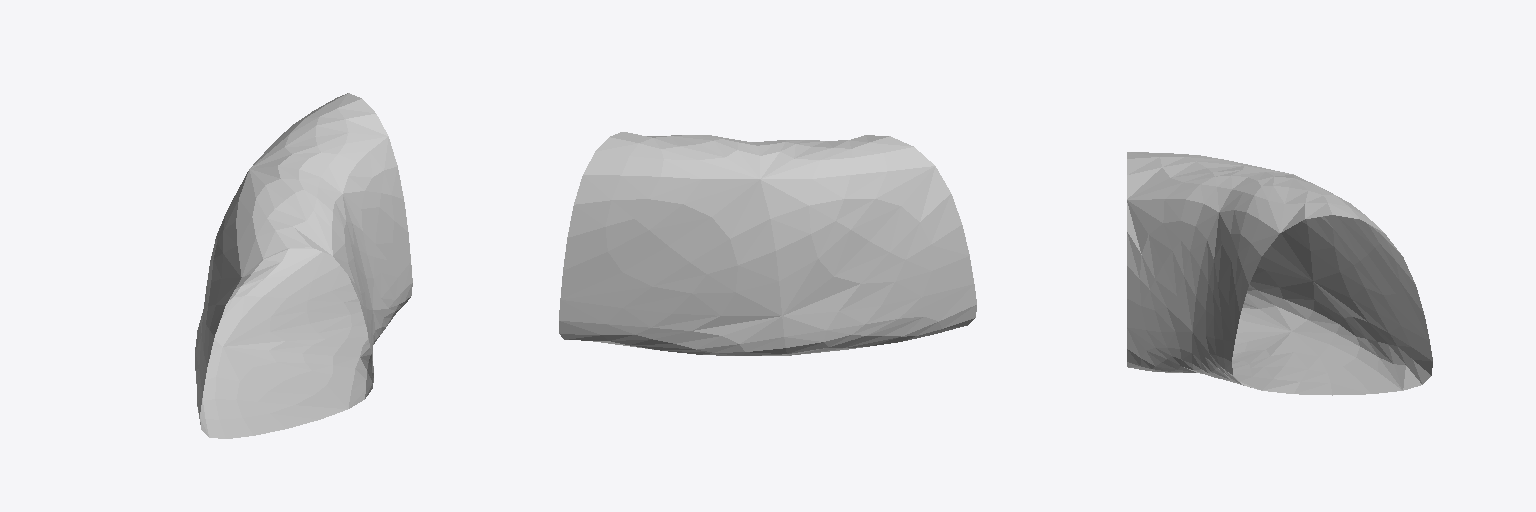
The model's file is cave_902r_1.obj.
3 renders of one model, left to right at view 1: azimuth 30°, elevation 25°; view 2: azimuth 150°, elevation 25°; view 3: azimuth 270°, elevation 25°, orthographic.
Visible parts, largest first — view 1: cave_902r_1_Cube.081; view 2: cave_902r_1_Cube.081; view 3: cave_902r_1_Cube.081.
Part boxes in pixels (left/top/right/bottom): cave_902r_1_Cube.081: left=195, top=93, right=412, bottom=438; cave_902r_1_Cube.081: left=559, top=132, right=976, bottom=355; cave_902r_1_Cube.081: left=1127, top=152, right=1432, bottom=395.
Bounding box in the file's own units: 8.94 × 6.81 × 8.94.